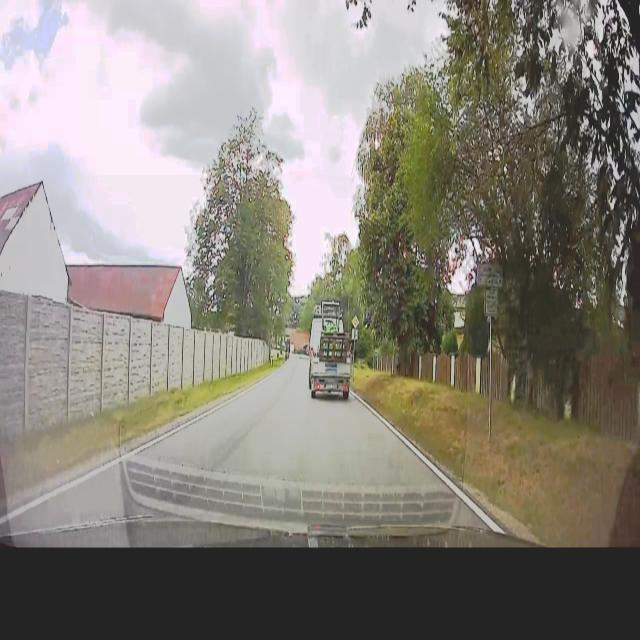Priority road: (351, 311, 362, 330)
